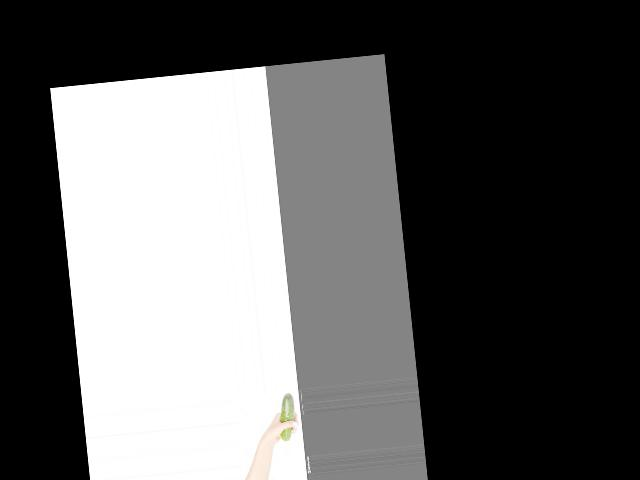cucumber: (276, 392, 298, 441)
